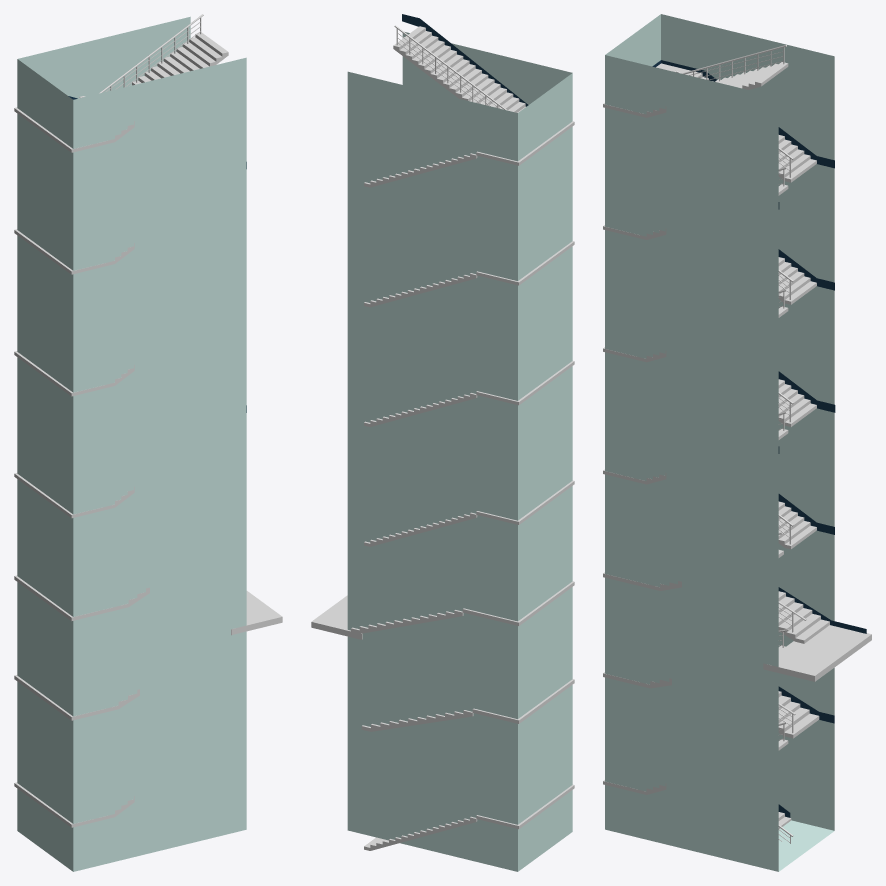
The model's file is UTypeStair_L.fbx.
The picture shows the model from 3 angles, left to right: view 1: azimuth 30°, elevation 25°; view 2: azimuth 150°, elevation 25°; view 3: azimuth 330°, elevation 25°; orthographic projection. The views are drawn at different scales.
Visible parts, largest first — view 1: Srair_Passage_1F, Srair_Passage_B1F, Srair_Passage_4F, Srair_Passage_3F, Srair_Passage_2F, UTypeStair_4F, Stair_Floor_B1F001, UTypeStair_B1_b01, UTypeStair_B1_a01, UTypeStair_B2F_01, UTypeStair_1F01, UTypeStair_3F01 (+2 smaller); view 2: Srair_Passage_1F, Srair_Passage_B1F, Srair_Passage_4F, Srair_Passage_3F, Srair_Passage_2F, UTypeStair_4F, UTypeStair_B1_b01, UTypeStair_B1_a01, UTypeStair_B2F_01, UTypeStair_3F01, UTypeStair_1F01, UTypeStair_2F01 (+2 smaller); view 3: Srair_Passage_1F, Srair_Passage_B1F, Srair_Passage_4F, Srair_Passage_3F, Srair_Passage_2F, Stair_Floor_B1F001, UTypeStair_4F, UTypeStair_B1_b01, UTypeStair_B1_a01, UTypeStair_1F01, UTypeStair_2F01, UTypeStair_3F01 (+2 smaller).
Part boxes in pixels (x1,y1,x2,y2): Srair_Passage_1F: [17, 412, 246, 667]; Srair_Passage_B1F: [17, 627, 246, 871]; Srair_Passage_4F: [17, 16, 246, 221]; Srair_Passage_3F: [17, 179, 246, 343]; Srair_Passage_2F: [17, 301, 246, 454]; UTypeStair_4F: [14, 14, 228, 152]; Stair_Floor_B1F001: [231, 591, 282, 635]; UTypeStair_B1_b01: [14, 575, 149, 621]; UTypeStair_B1_a01: [14, 675, 139, 720]; UTypeStair_B2F_01: [14, 782, 134, 827]; UTypeStair_1F01: [14, 473, 134, 518]; UTypeStair_3F01: [14, 229, 134, 274]; Srair_Passage_1F: [347, 420, 572, 671]; Srair_Passage_B1F: [347, 631, 572, 871]; Srair_Passage_4F: [347, 14, 572, 232]; Srair_Passage_3F: [347, 191, 572, 352]; Srair_Passage_2F: [347, 311, 572, 461]; UTypeStair_4F: [364, 25, 574, 187]; UTypeStair_B1_b01: [351, 581, 574, 633]; UTypeStair_B1_a01: [361, 679, 574, 731]; UTypeStair_B2F_01: [364, 784, 574, 850]; UTypeStair_3F01: [364, 241, 574, 307]; UTypeStair_1F01: [364, 480, 574, 546]; UTypeStair_2F01: [364, 361, 574, 426]; Srair_Passage_1F: [605, 408, 866, 666]; Srair_Passage_B1F: [605, 625, 834, 871]; Srair_Passage_4F: [605, 14, 834, 219]; Srair_Passage_3F: [605, 171, 834, 341]; Srair_Passage_2F: [605, 294, 835, 453]; Stair_Floor_B1F001: [763, 625, 871, 681]; UTypeStair_4F: [603, 45, 816, 182]; UTypeStair_B1_b01: [603, 532, 829, 643]; UTypeStair_B1_a01: [603, 629, 819, 738]; UTypeStair_1F01: [603, 411, 816, 549]; UTypeStair_2F01: [603, 289, 816, 426]; UTypeStair_3F01: [603, 167, 816, 304].
Bounding box in the file's own units: 6.36 × 23.43 × 2.98.
